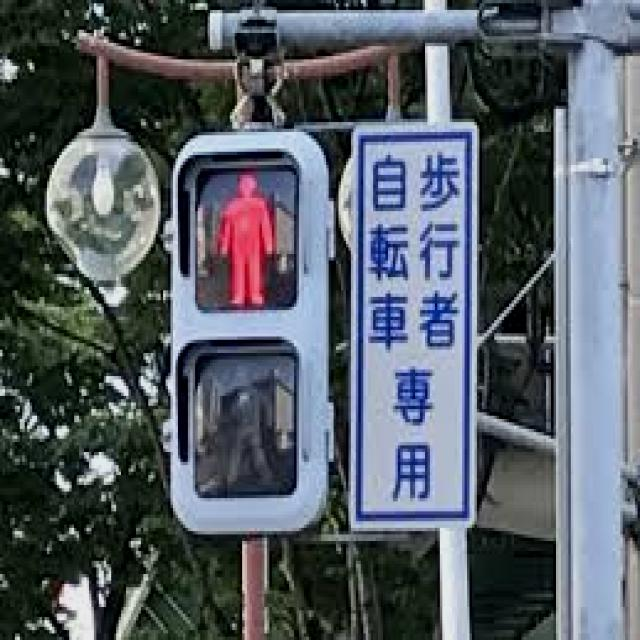trafficlight: (166, 132, 326, 528)
